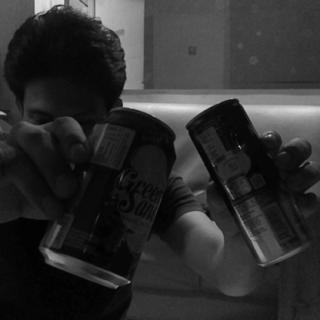alumunium_can: (43, 110, 178, 287), (188, 97, 308, 263)
